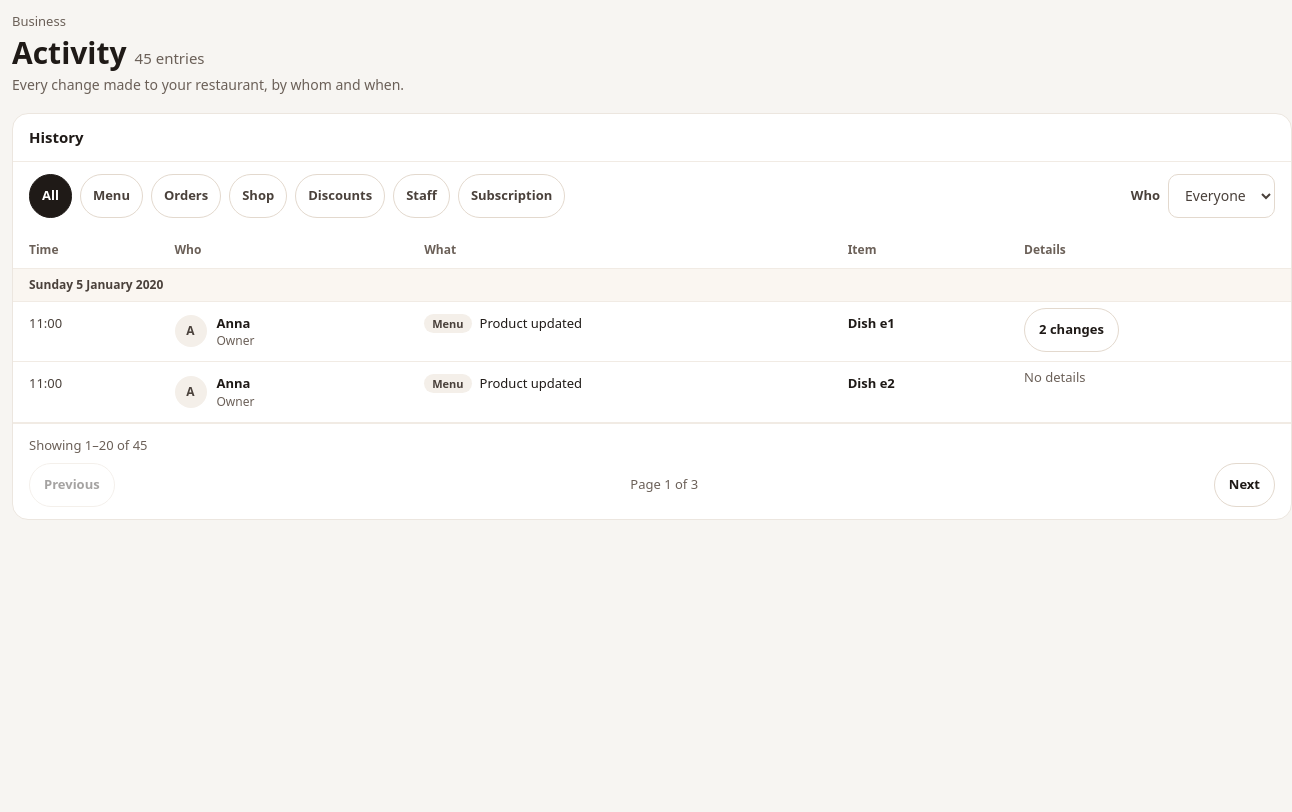
ActivityPage › groups by day and toggles the change details
The width and height of the screenshot is (1292, 812).
Later steps or results of the test are not shown.
expect the column heading "Sunday 5 January 2020" is shown: met, box [13,268,1291,301]
expect the text "No details" is shown: met, box [1024,368,1086,386]
What coordinates should you click on to do the following:
click the button "2 changes"
I would click on:
 (1072, 330)
Its box is [1024,308,1119,352].
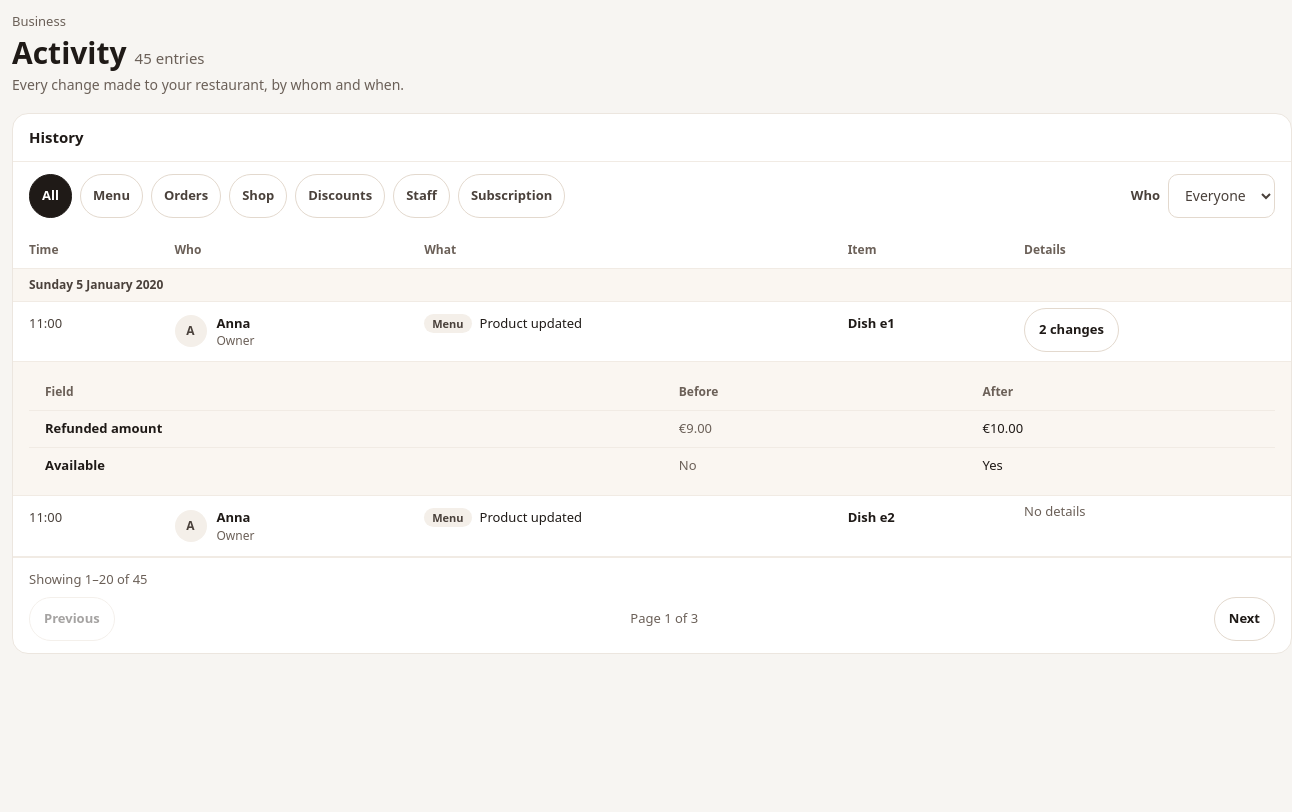
expect the column heading "Field" is shown: met, box [29,374,663,410]
expect the column heading "Before" is shown: met, box [663,374,966,410]
expect the column heading "After" is shown: met, box [966,374,1275,410]
